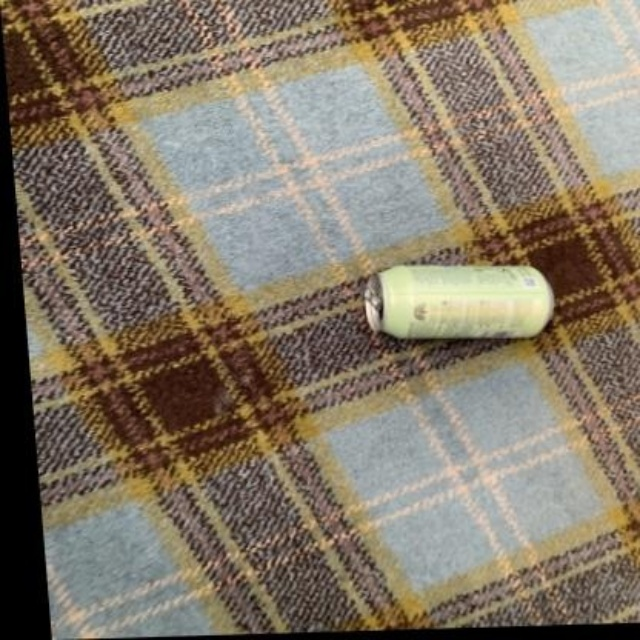trash: (365, 266, 552, 337)
